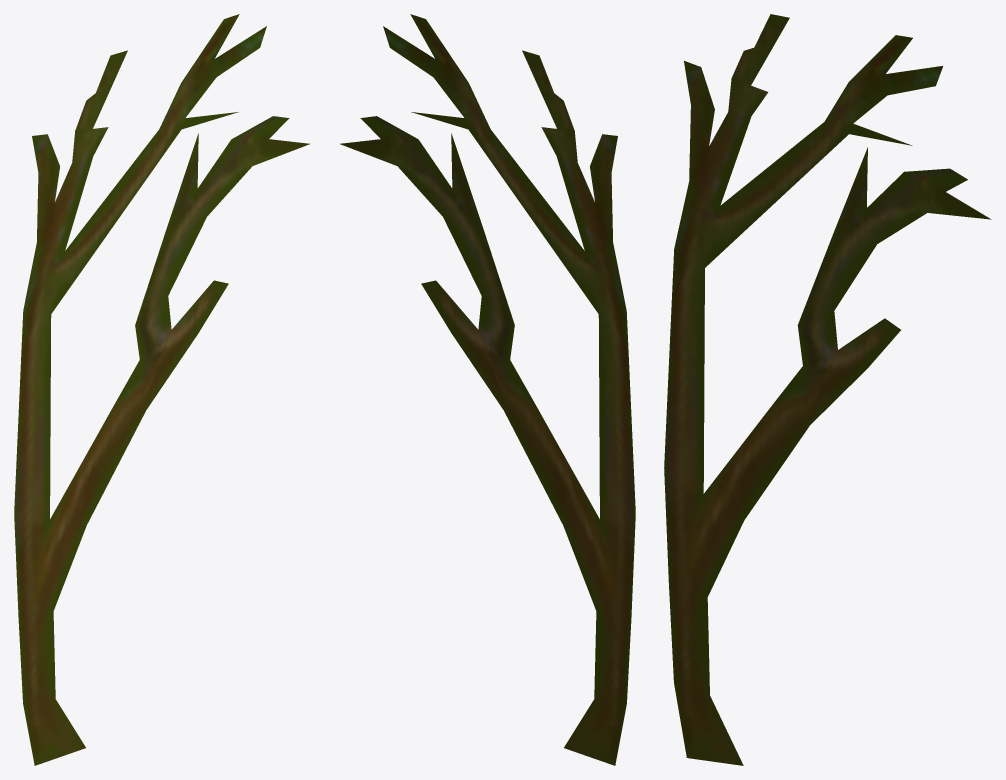
File: sences_changbanpo_guanmu007.FBX
3 renders of one model, left to right at view 1: azimuth 30°, elevation 25°; view 2: azimuth 150°, elevation 25°; view 3: azimuth 330°, elevation 25°, orthographic. The views are drawn at different scales.
Parts seen in each view (by area): view 1: sences_changbanpo_guanmu007; view 2: sences_changbanpo_guanmu007; view 3: sences_changbanpo_guanmu007.
Boxes of the visible parts, x1,y1,x2,y2 form: sences_changbanpo_guanmu007: (14, 14, 309, 765); sences_changbanpo_guanmu007: (340, 14, 635, 765); sences_changbanpo_guanmu007: (664, 14, 991, 765).
Size of the model in its own units: 0.7382 by 1.24e-05 by 1.67.
